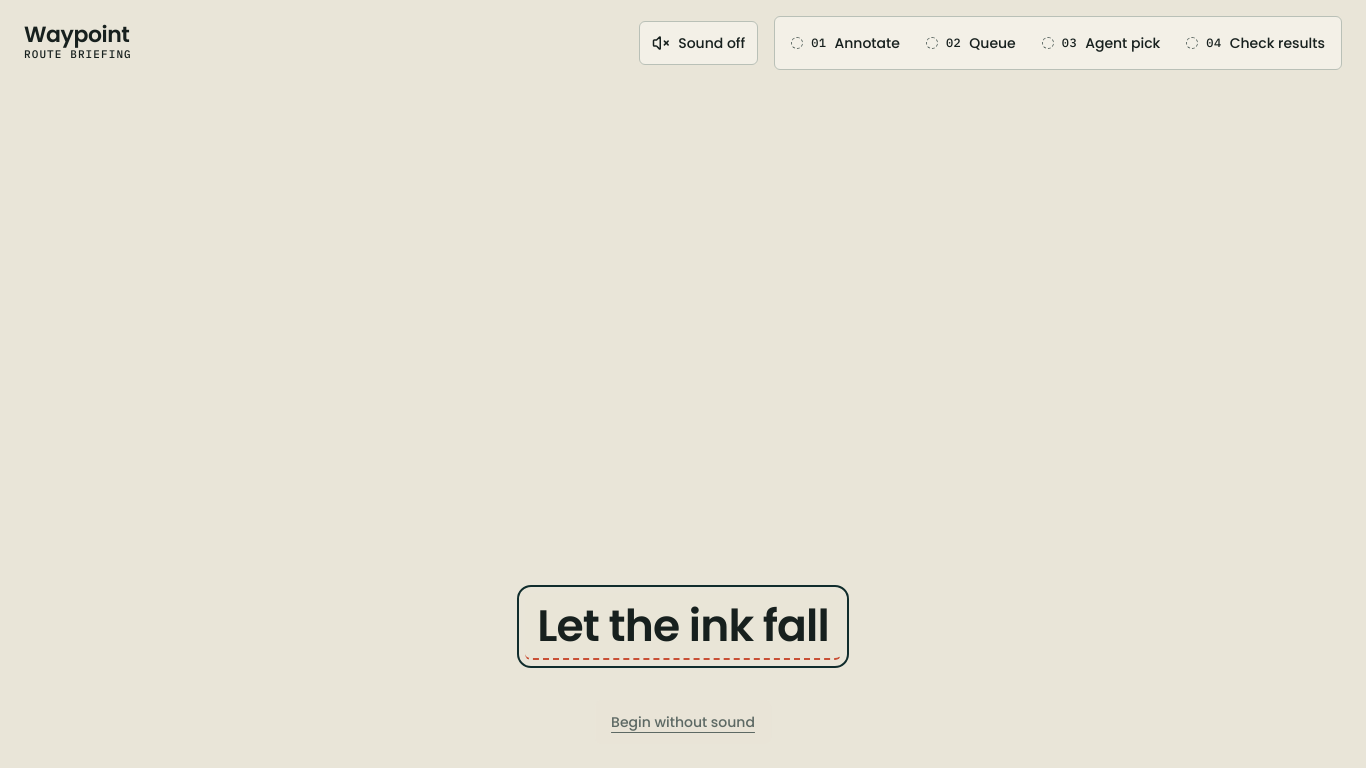
Test case: OpenDesign ink map journey › Let the ink fall entrance › hands keyboard focus to the journey control when the entrance is pressed
Click the button "Let the ink fall" at (683, 384), box [0,0,1365,767]
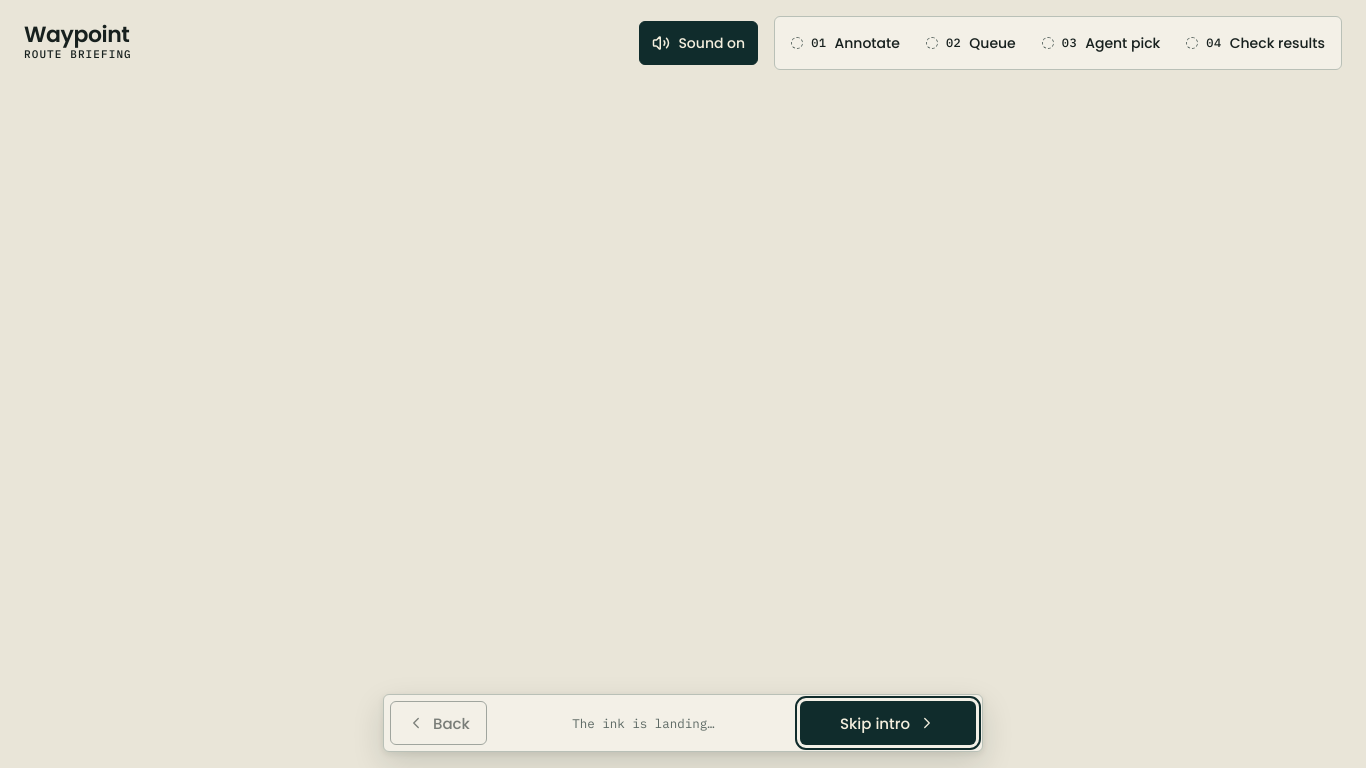
Now the button "Let the ink fall" is gone
